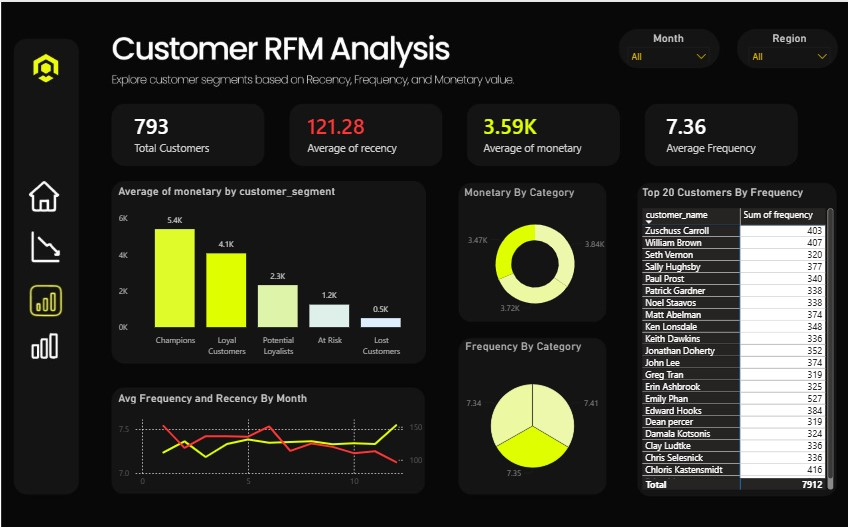

The dashboard page shown, as its layout file describes it:
{"tool":"powerbi","page":{"name":"Customer RFM Analysis","canvas":[1300,800],"ordinal":2},"visuals":[{"type":"cardVisual","title":"Total Customers","fields":{"Data":["measure.Total Customers"]},"box":[181.7,145,225,103.3],"z":0},{"type":"cardVisual","fields":{"Data":["Avg(FinalChurn_PBI.recency)"]},"box":[443.3,145,225,103.3],"z":1000},{"type":"cardVisual","fields":{"Data":["Avg(FinalChurn_PBI.monetary)"]},"box":[708.3,145,236.7,103.3],"z":2000},{"type":"cardVisual","fields":{"Data":["Avg(FinalChurn_PBI.frequency)"]},"box":[983.3,145,225,103.3],"z":3000},{"type":"clusteredColumnChart","fields":{"Category":["FinalChurn_PBI.customer_segment"],"Y":["Avg(FinalChurn_PBI.monetary)"]},"box":[182.3,274.2,468.5,266.6],"z":4000},{"type":"donutChart","title":"Monetary By Category","fields":{"Y":["Avg(FinalChurn_PBI.monetary)"],"Category":["FinalChurn_PBI.category"]},"box":[703.5,275.7,222.9,207.9],"z":5000},{"type":"pieChart","title":"Frequency By Category","fields":{"Category":["FinalChurn_PBI.category"],"Y":["Avg(FinalChurn_PBI.frequency)"]},"box":[705,507.6,212.4,232],"z":6000},{"type":"lineChart","title":"Avg Frequency and Recency By Month","fields":{"Category":["FinalChurn_PBI.order_month"],"Y":["Avg(FinalChurn_PBI.frequency)"],"Y2":["Avg(FinalChurn_PBI.recency)"]},"box":[182.3,586,468.5,153.7],"z":7000},{"type":"pageNavigator","box":[38.3,260,71.7,66.7],"z":8000},{"type":"pageNavigator","box":[37.7,334.4,71.7,66.7],"z":9000},{"type":"pageNavigator","box":[37.7,483.5,71.7,76.7],"z":10000},{"type":"slicer","title":"Month","fields":{"Values":["FinalChurn_PBI.order_month"]},"box":[945,43.3,143.3,48.3],"z":10001},{"type":"slicer","title":"Region","fields":{"Values":["FinalChurn_PBI.region"]},"box":[1126.7,43.3,143.3,48.3],"z":10002},{"type":"pivotTable","title":"Top 20 Customers By Frequency","fields":{"Rows":["FinalChurn_PBI.customer_name"],"Values":["Sum(FinalChurn_PBI.frequency)"]},"box":[971.6,275.7,298.3,464],"z":10003}]}

Visuals, with their boxes on the page's 1300x800 design canvas (x1, y1, x2, y2). These are canvas units, not pixel positions in the 848x527 screenshot, which may show the page scaled, cropped or inside an application window:
"Total Customers" cardVisual: region(182, 145, 407, 248)
cardVisual - Avg(FinalChurn_PBI.recency): region(443, 145, 668, 248)
cardVisual - Avg(FinalChurn_PBI.monetary): region(708, 145, 945, 248)
cardVisual - Avg(FinalChurn_PBI.frequency): region(983, 145, 1208, 248)
clusteredColumnChart - FinalChurn_PBI.customer_segment x Avg(FinalChurn_PBI.monetary): region(182, 274, 651, 541)
"Monetary By Category" donutChart: region(704, 276, 926, 484)
"Frequency By Category" pieChart: region(705, 508, 917, 740)
"Avg Frequency and Recency By Month" lineChart: region(182, 586, 651, 740)
pageNavigator: region(38, 260, 110, 327)
pageNavigator: region(38, 334, 109, 401)
pageNavigator: region(38, 484, 109, 560)
"Month" slicer: region(945, 43, 1088, 92)
"Region" slicer: region(1127, 43, 1270, 92)
"Top 20 Customers By Frequency" pivotTable: region(972, 276, 1270, 740)
